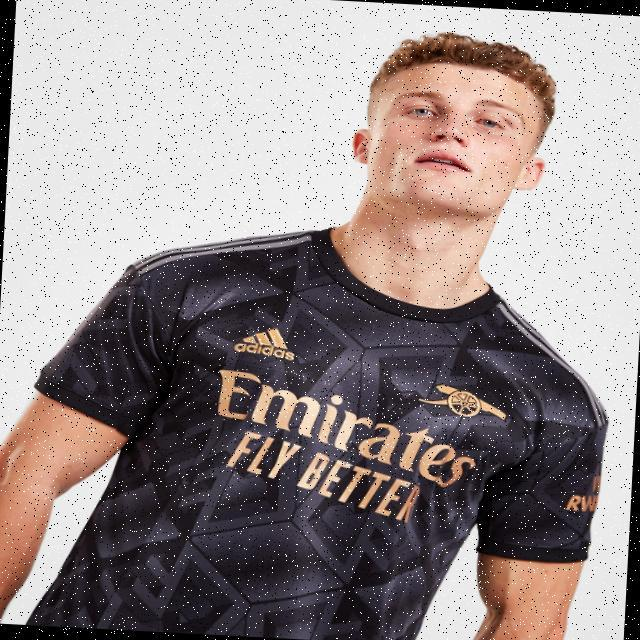Adidas: (232, 326, 298, 361)
Emirates: (212, 365, 480, 488)
